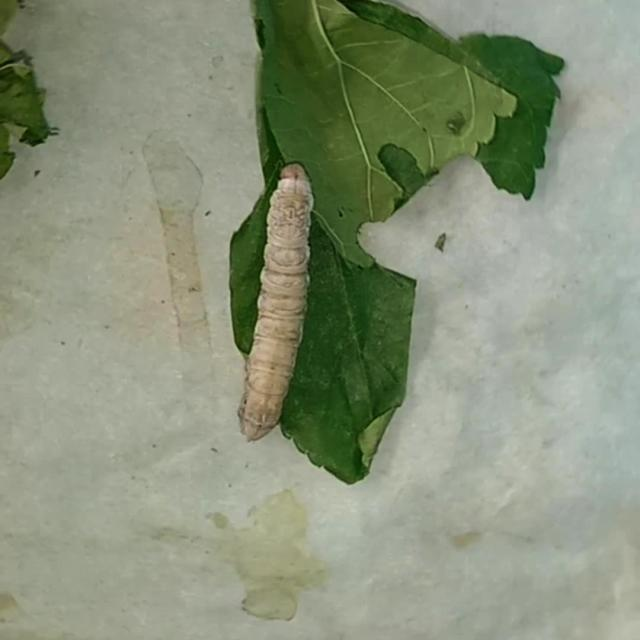Grasserie: (215, 135, 353, 463)
